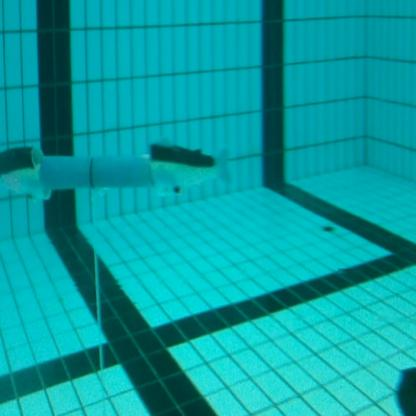tail: (150, 137, 232, 204)
